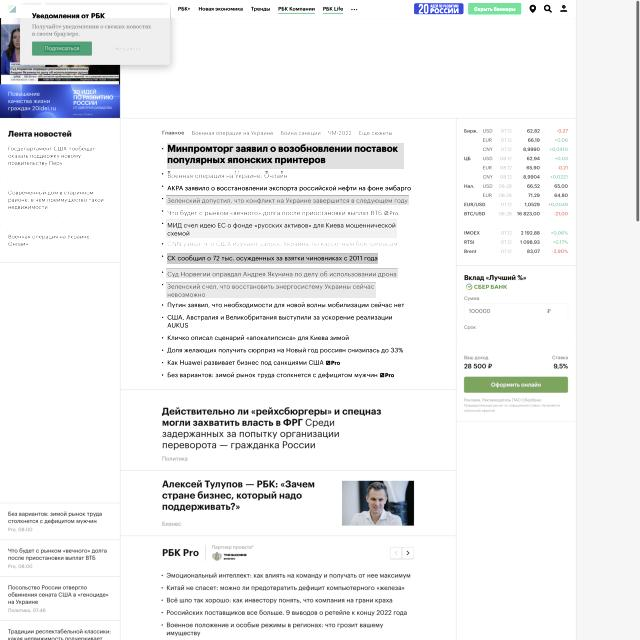CheckBox: (464, 377, 569, 393), (98, 41, 158, 57), (32, 41, 92, 56), (413, 2, 464, 16), (468, 2, 522, 15)
CheckedTextView: (464, 302, 568, 320), (464, 332, 568, 348)
Input field: (166, 220, 397, 238), (166, 283, 376, 298), (167, 184, 411, 193), (166, 196, 409, 205), (167, 254, 378, 264), (166, 269, 398, 278), (166, 208, 382, 217), (167, 242, 398, 250), (167, 173, 288, 180)
QR code: (160, 172, 416, 382), (460, 126, 573, 260), (1, 142, 120, 262)
RadioButton: (384, 209, 399, 217)
bag: (0, 0, 576, 18)
breadcrumbs: (167, 143, 404, 169)
carousel: (543, 4, 553, 14), (559, 3, 569, 13), (529, 4, 537, 14)
data feed: (44, 45, 80, 52), (114, 45, 143, 52)
date picker: (6, 3, 17, 14)
decoration: (160, 128, 396, 139), (174, 4, 360, 14)
label: (20, 2, 171, 65)
